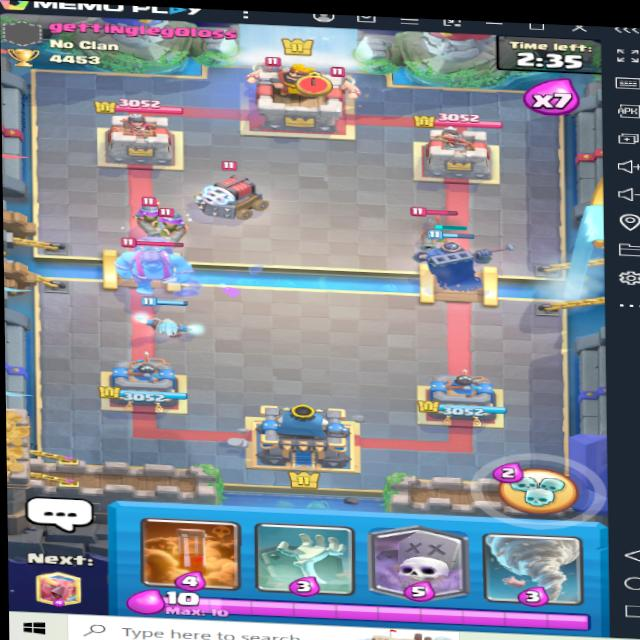electro-barbarians: (314, 62, 361, 106), (245, 54, 291, 92)
goblin-giant: (115, 235, 198, 298)
musketeer: (412, 206, 467, 251), (126, 194, 185, 235), (151, 200, 199, 244)
sparky: (192, 161, 279, 223)
